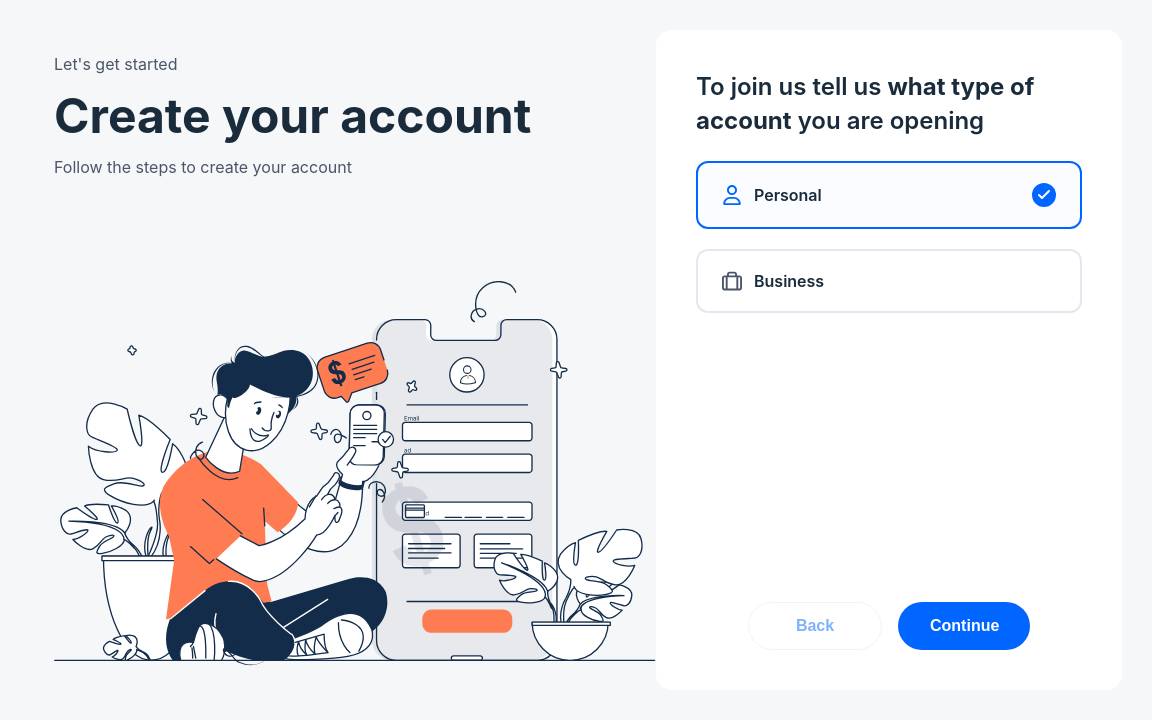
Onboarding › advances to step 2 on continue
This screenshot has width=1152, height=720.
Click the button "Continue".
click(964, 626)  # box [898,602,1030,650]
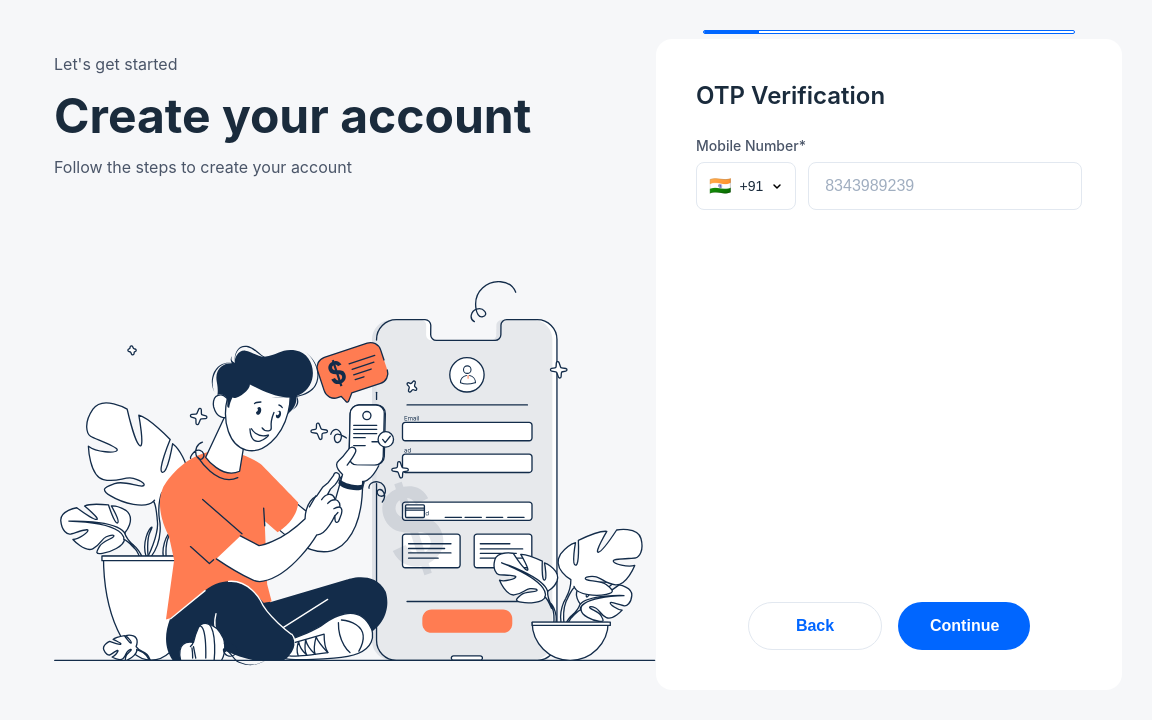
Expected: the heading "OTP Verification" is shown, [696,81,885,110]
